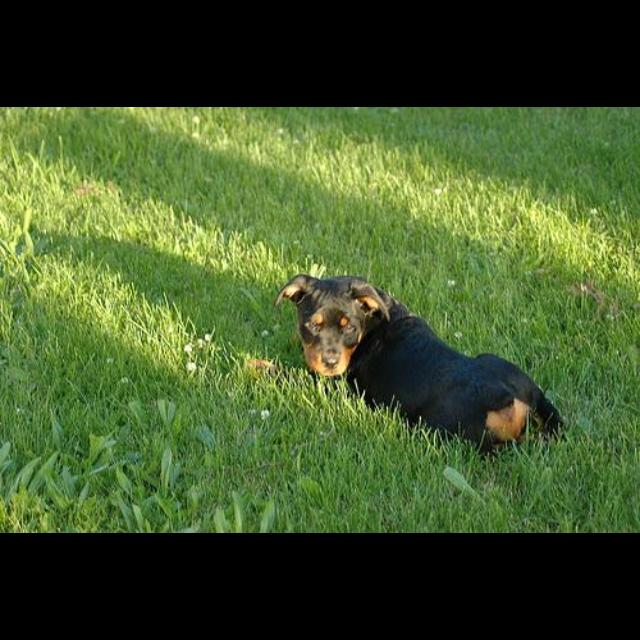rottweiler: (274, 273, 567, 457)
